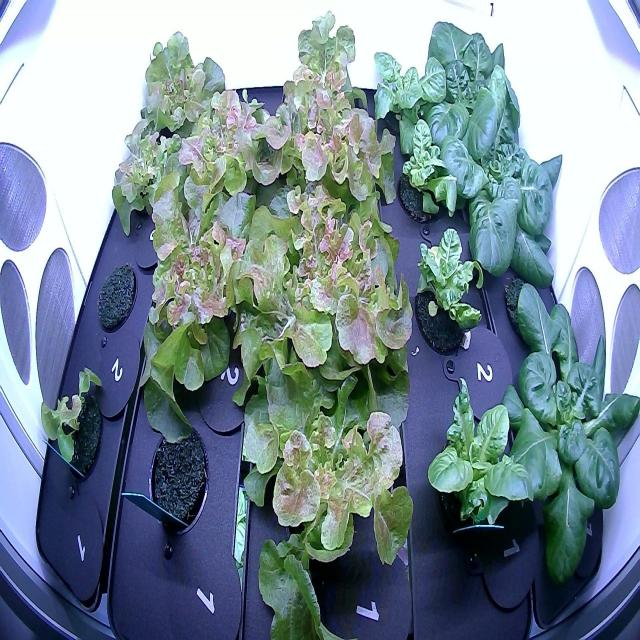pod: (137, 408, 216, 546), (90, 255, 142, 340)
young: (488, 275, 640, 617), (445, 88, 573, 308), (421, 366, 526, 554), (414, 9, 526, 163), (404, 218, 499, 376), (350, 43, 456, 162), (386, 117, 466, 228)
